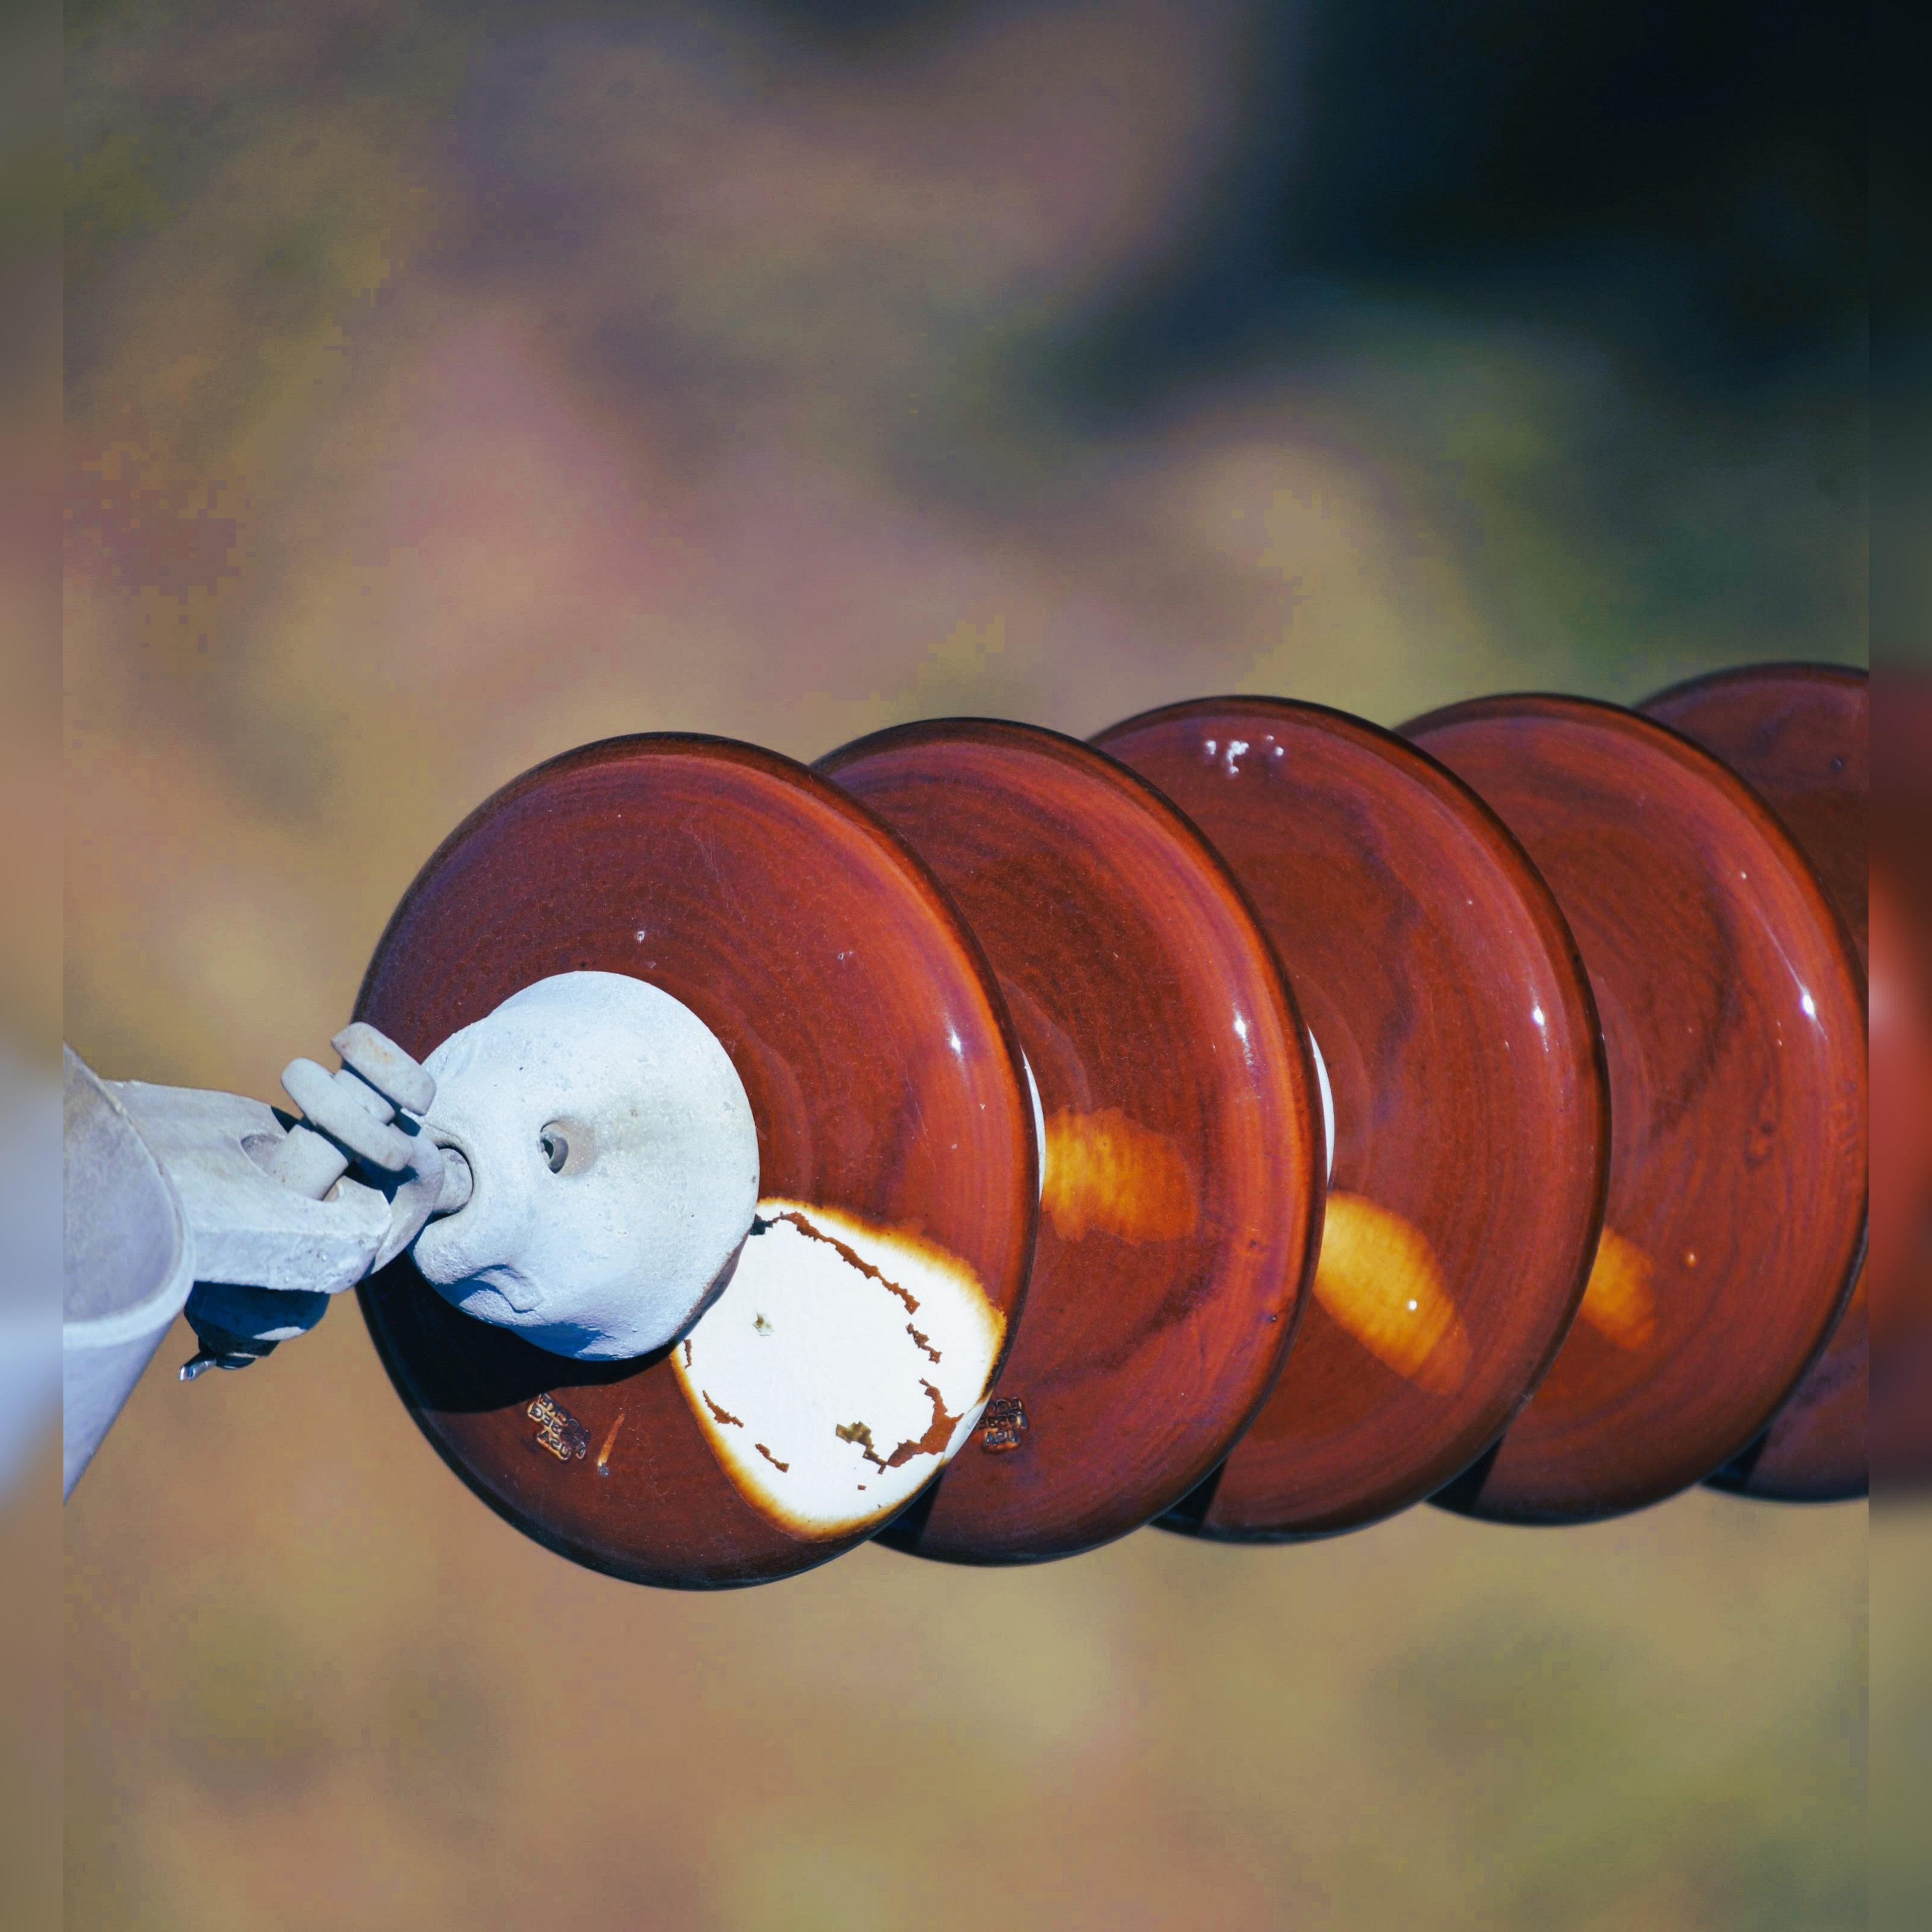Insulator flashover: (324, 715, 1047, 1619)
